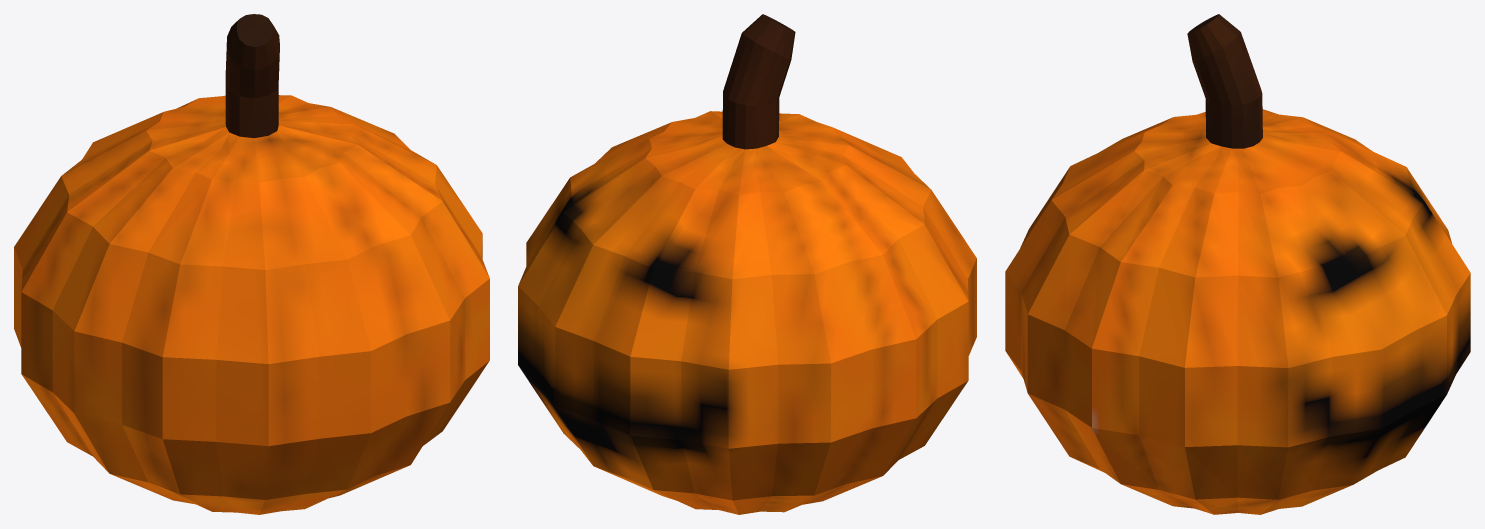
Rendered from PUMPKIN HAT.fbx.
The picture shows the model from 3 angles, left to right: view 1: azimuth 30°, elevation 25°; view 2: azimuth 150°, elevation 25°; view 3: azimuth 270°, elevation 25°; orthographic projection. The views are drawn at different scales.
Visible parts, largest first — view 1: PUMPKIN_HAT; view 2: PUMPKIN_HAT; view 3: PUMPKIN_HAT.
Boxes of the visible parts, left/top/right/bottom form: PUMPKIN_HAT: left=14, top=14, right=489, bottom=514; PUMPKIN_HAT: left=518, top=14, right=976, bottom=514; PUMPKIN_HAT: left=1005, top=14, right=1470, bottom=514.
Size of the model in its own units: 13.78 by 15.67 by 14.12.
